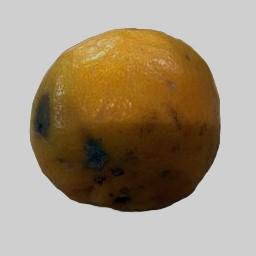Unripe: (30, 27, 221, 210)
